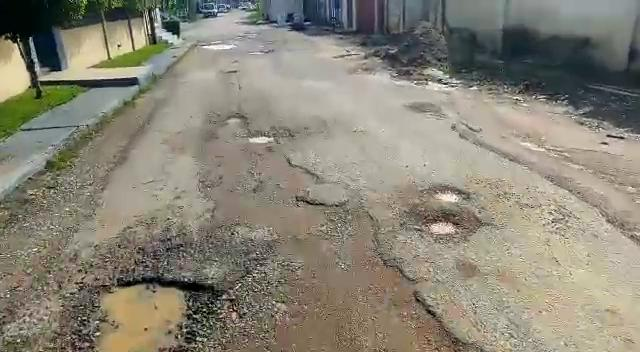pothole: (87, 280, 216, 352), (432, 184, 471, 205), (424, 214, 456, 238), (248, 134, 275, 144), (225, 114, 246, 124)
